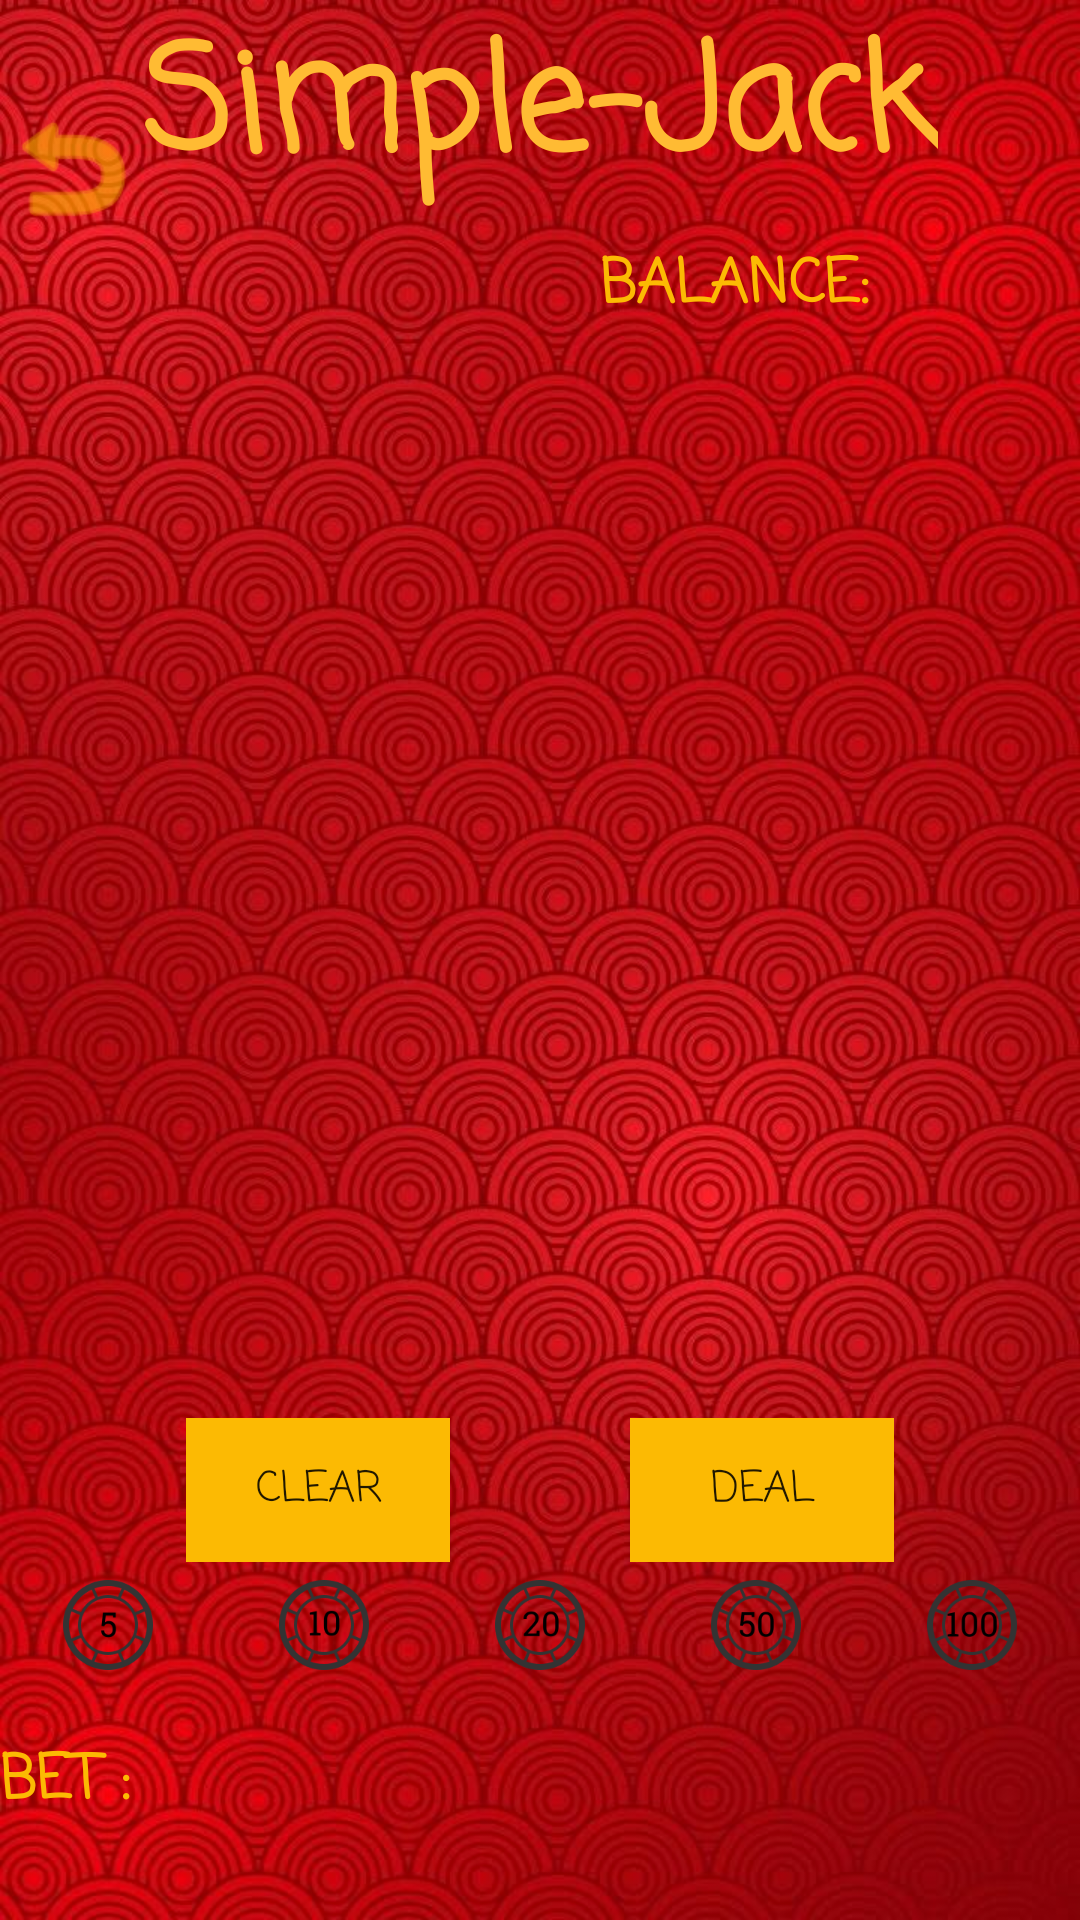

Icon click points for this 1080x1920 phone screenshot, format (x=x, y=y):
revert: (x=72, y=168)
